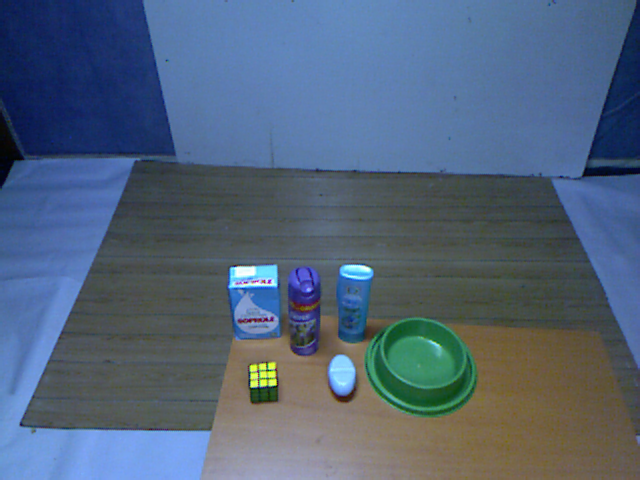aerosol: (282, 259, 327, 362)
balsamo: (330, 261, 374, 349)
cubix: (245, 356, 284, 406)
jabon: (323, 349, 360, 404)
leche: (224, 262, 287, 346)
platoperro: (365, 313, 482, 418)
